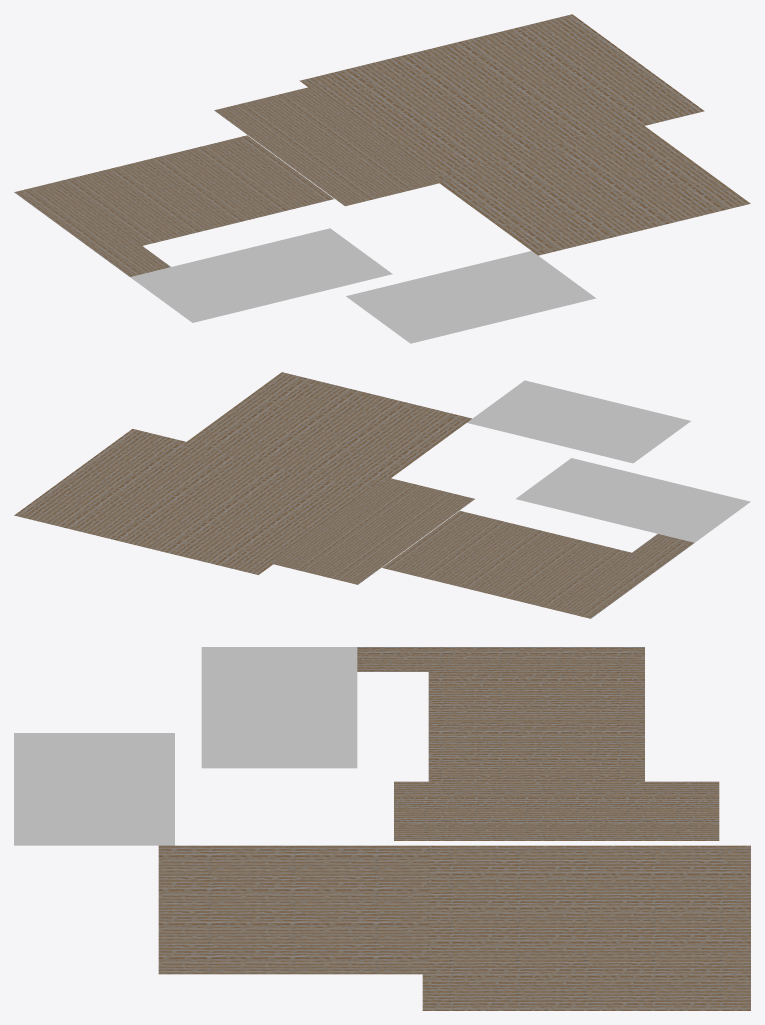
The model's file is Celling_plane_grd.fbx.
The picture shows the model from 3 angles, top to bottom: view 1: azimuth 30°, elevation 25°; view 2: azimuth 150°, elevation 25°; view 3: azimuth 270°, elevation 25°; orthographic projection. The views are drawn at different scales.
Visible parts, largest first — view 1: Plane.001, Dinnnig_Floor.001, Office_Floor.001, Plane_002.001, Gaming_room_floor.001, Kitchen_floor.001; view 2: Plane.001, Dinnnig_Floor.001, Office_Floor.001, Plane_002.001, Gaming_room_floor.001, Kitchen_floor.001; view 3: Plane.001, Dinnnig_Floor.001, Office_Floor.001, Plane_002.001, Gaming_room_floor.001, Kitchen_floor.001.
Part boxes in pixels (x1,y1,x2,y2): Plane.001: (299,14,704,174); Dinnnig_Floor.001: (433,124,750,255); Office_Floor.001: (14,135,333,276); Plane_002.001: (214,86,442,206); Gaming_room_floor.001: (130,228,392,322); Kitchen_floor.001: (346,251,596,343); Plane.001: (14,429,370,574); Dinnnig_Floor.001: (184,372,471,489); Office_Floor.001: (382,511,694,618); Plane_002.001: (270,477,474,584); Gaming_room_floor.001: (516,458,750,542); Kitchen_floor.001: (467,380,690,463); Plane.001: (422,845,750,1010); Dinnnig_Floor.001: (158,845,429,974); Office_Floor.001: (357,647,644,781); Plane_002.001: (394,781,719,840); Gaming_room_floor.001: (201,647,357,768); Kitchen_floor.001: (14,733,174,845).
Bounding box in the file's own units: 43.29 × 0.2636 × 37.07.
